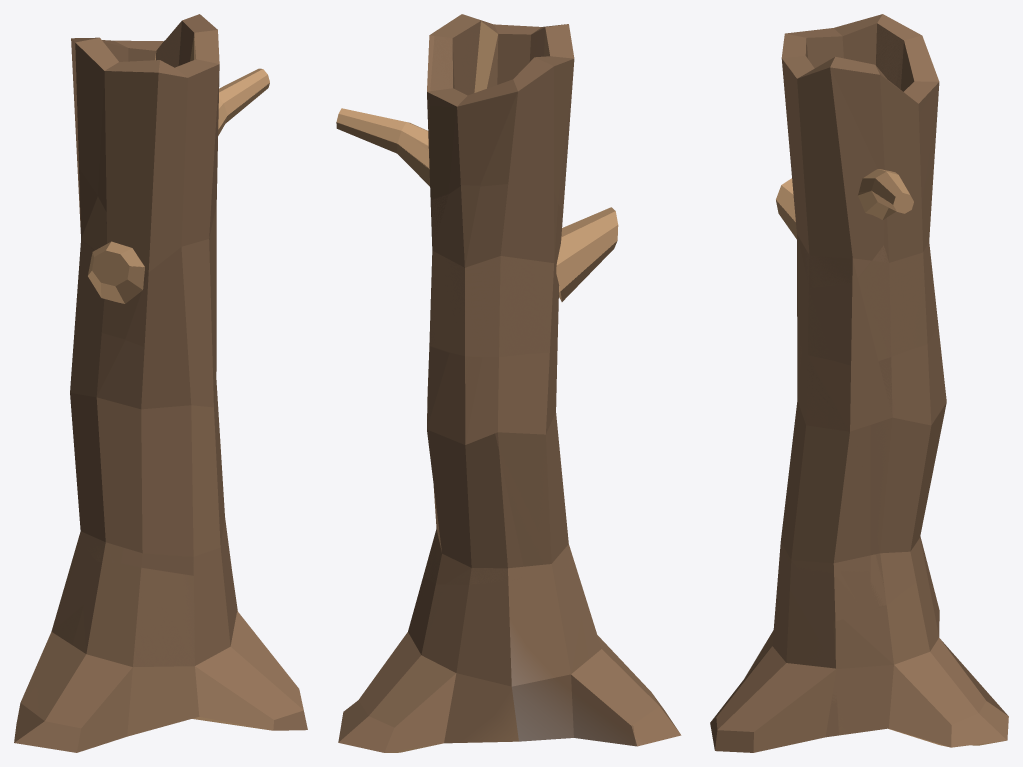
File: trunk-broken.fbx
3 views of the same model, side by side, from view 1: azimuth 30°, elevation 25°; view 2: azimuth 150°, elevation 25°; view 3: azimuth 270°, elevation 25° (orthographic). The views are drawn at different scales.
Parts seen in each view (by area): view 1: tree-trunk, tree-trunk-broken.001_cell.004, tree-trunk-broken.001_cell.003, tree-trunk-top, tree-trunk-broken.001_cell, tree-trunk-broken_cell, tree-trunk-broken_cell.001, tree-trunk-broken_cell.002, tree-trunk-broken.001_cell.002; view 2: tree-trunk, tree-trunk-broken.001_cell.002, tree-trunk-broken_cell.001, tree-trunk-broken_cell, tree-trunk-top, tree-trunk-broken.001_cell.001, tree-trunk-broken_cell.002, tree-trunk-broken.001_cell, tree-trunk-broken.001_cell.004; view 3: tree-trunk, tree-trunk-top, tree-trunk-broken.001_cell.002, tree-trunk-broken_cell, tree-trunk-broken.001_cell.003, tree-trunk-broken_cell.001, tree-trunk-broken.001_cell.004, tree-trunk-broken.001_cell.001, tree-trunk-broken_cell.002.
Part boxes in pixels (x1,y1,x2,y2): tree-trunk: (14, 33, 306, 752); tree-trunk-broken.001_cell.004: (16, 563, 307, 751); tree-trunk-broken.001_cell.003: (121, 380, 228, 575); tree-trunk-top: (70, 14, 269, 407); tree-trunk-broken.001_cell: (70, 393, 141, 562); tree-trunk-broken_cell: (71, 17, 269, 271); tree-trunk-broken_cell.001: (81, 196, 216, 346); tree-trunk-broken_cell.002: (97, 314, 216, 409); tree-trunk-broken.001_cell.002: (20, 542, 237, 704); tree-trunk: (336, 21, 680, 752); tree-trunk-broken.001_cell.002: (339, 575, 634, 752); tree-trunk-broken_cell.001: (429, 184, 618, 356); tree-trunk-broken_cell: (336, 14, 574, 202); tree-trunk-top: (337, 15, 574, 444); tree-trunk-broken.001_cell.001: (423, 431, 524, 584); tree-trunk-broken_cell.002: (427, 346, 549, 443); tree-trunk-broken.001_cell: (495, 432, 574, 575); tree-trunk-broken.001_cell.004: (582, 618, 679, 746); tree-trunk: (711, 59, 1008, 752); tree-trunk-top: (776, 14, 946, 430); tree-trunk-broken.001_cell.002: (833, 554, 1008, 745); tree-trunk-broken_cell: (782, 23, 939, 288); tree-trunk-broken.001_cell.003: (780, 400, 870, 610); tree-trunk-broken_cell.001: (780, 161, 937, 365); tree-trunk-broken.001_cell.004: (710, 562, 838, 752); tree-trunk-broken.001_cell.001: (870, 404, 945, 606); tree-trunk-broken_cell.002: (798, 331, 935, 431).
Bounding box in the file's own units: 1.45 × 3.16 × 1.27.
